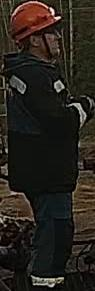gloves: (78, 93, 95, 123)
helmet: (9, 0, 61, 43)
vest: (2, 52, 80, 194)
